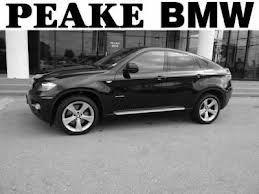car: (27, 47, 232, 137)
